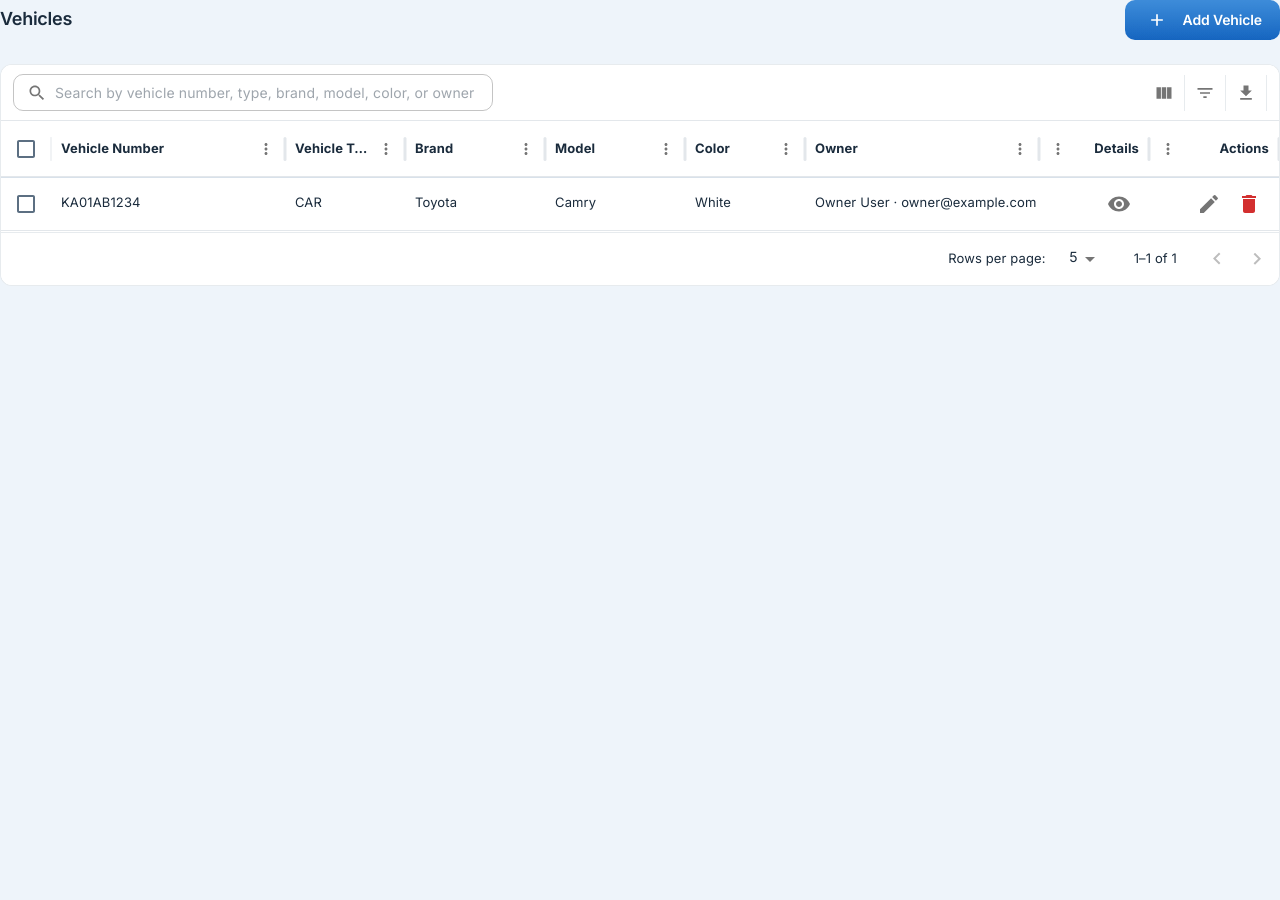
it: VehiclesPage › opens edit dialog and submits updated vehicle
Check: the text "KA01AB1234" is shown, box [61,195,141,211]
Click the button named "Edit" at (1209, 204), box [1189,184,1229,224]
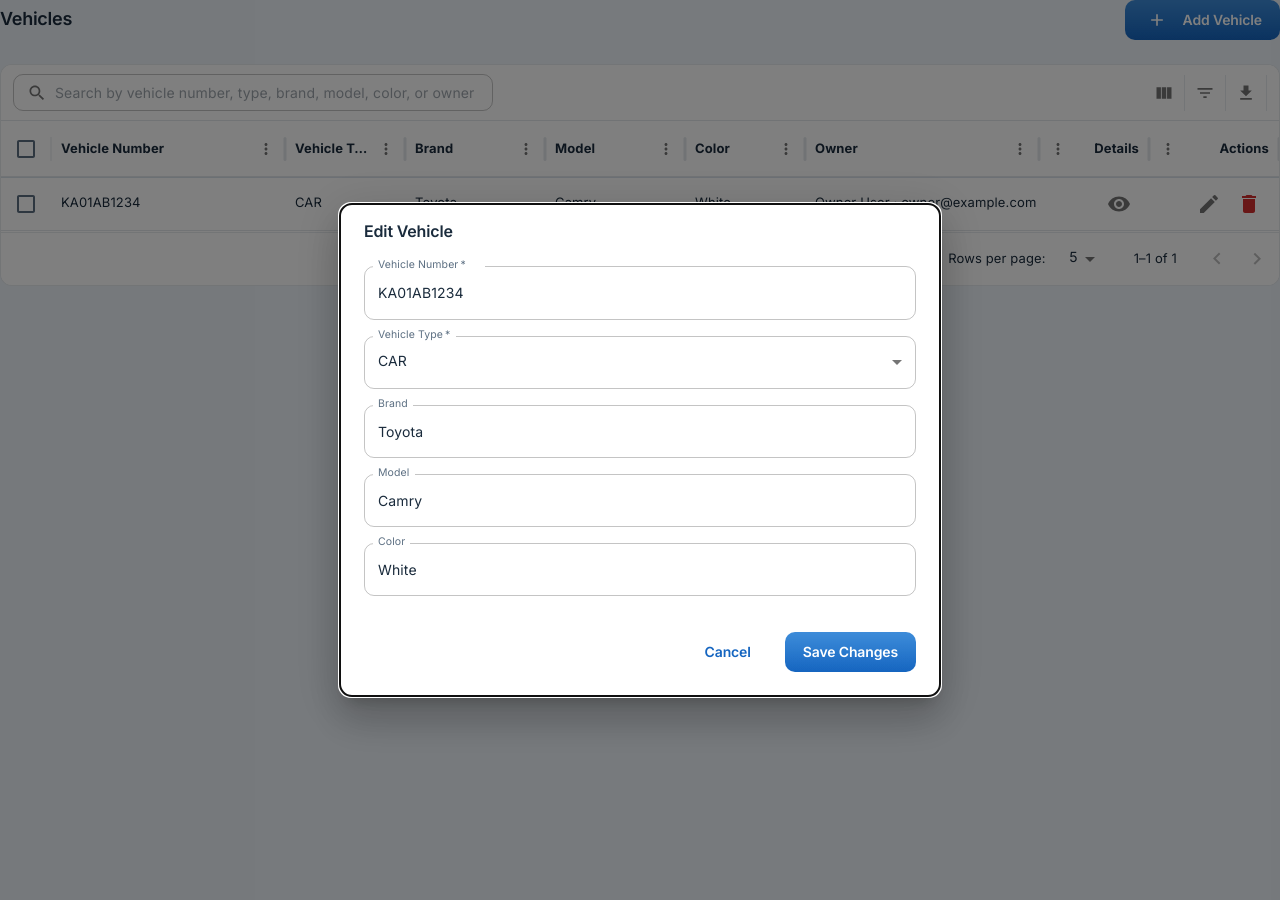
Check: the heading "Edit Vehicle" is shown, box [364,221,453,241]
Replace the text in the field labelled "Vehicle Number *" with "KA01AB5678" at (640, 293), box [364,266,916,320]
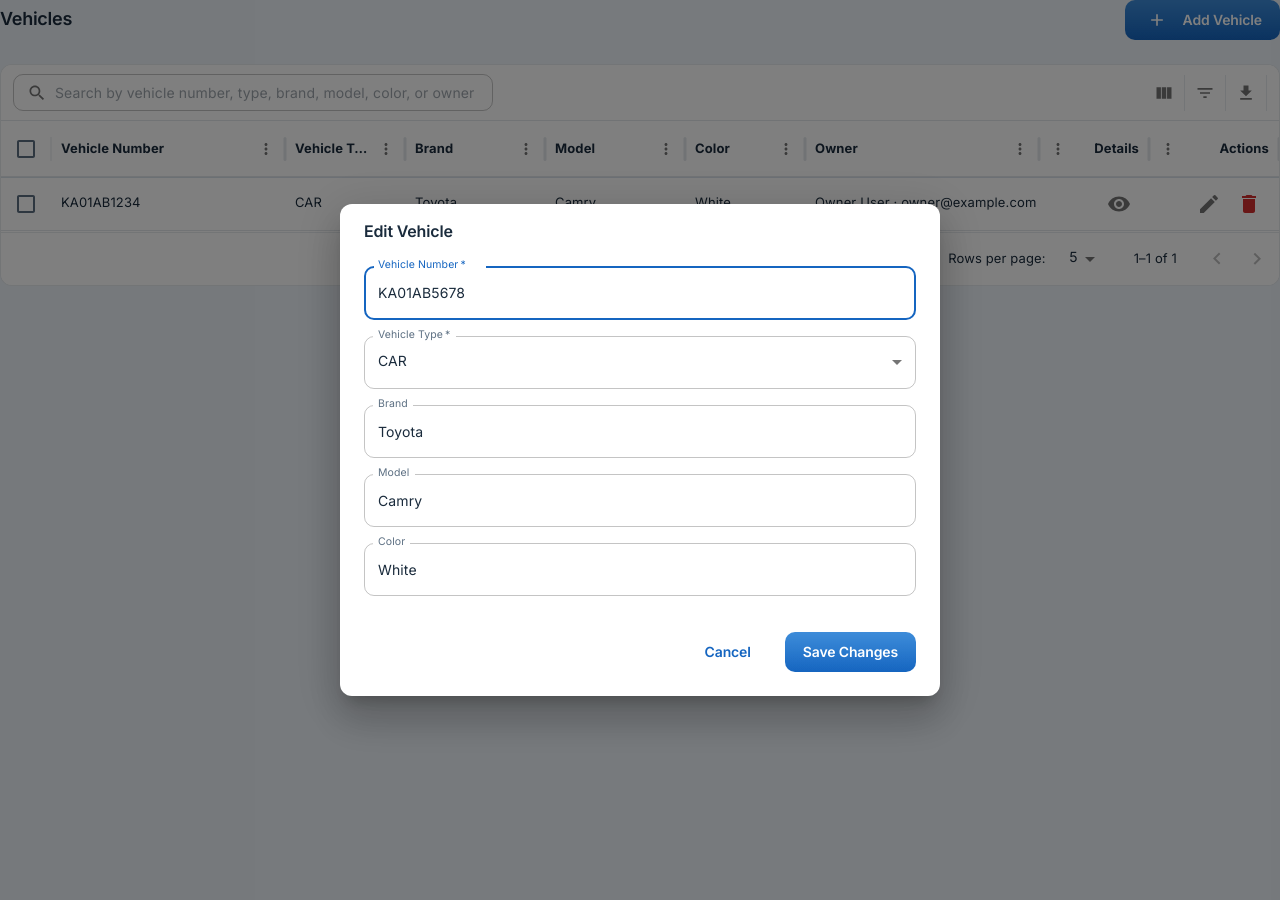
Click the button "Save Changes" at (850, 652), box [785,632,916,672]
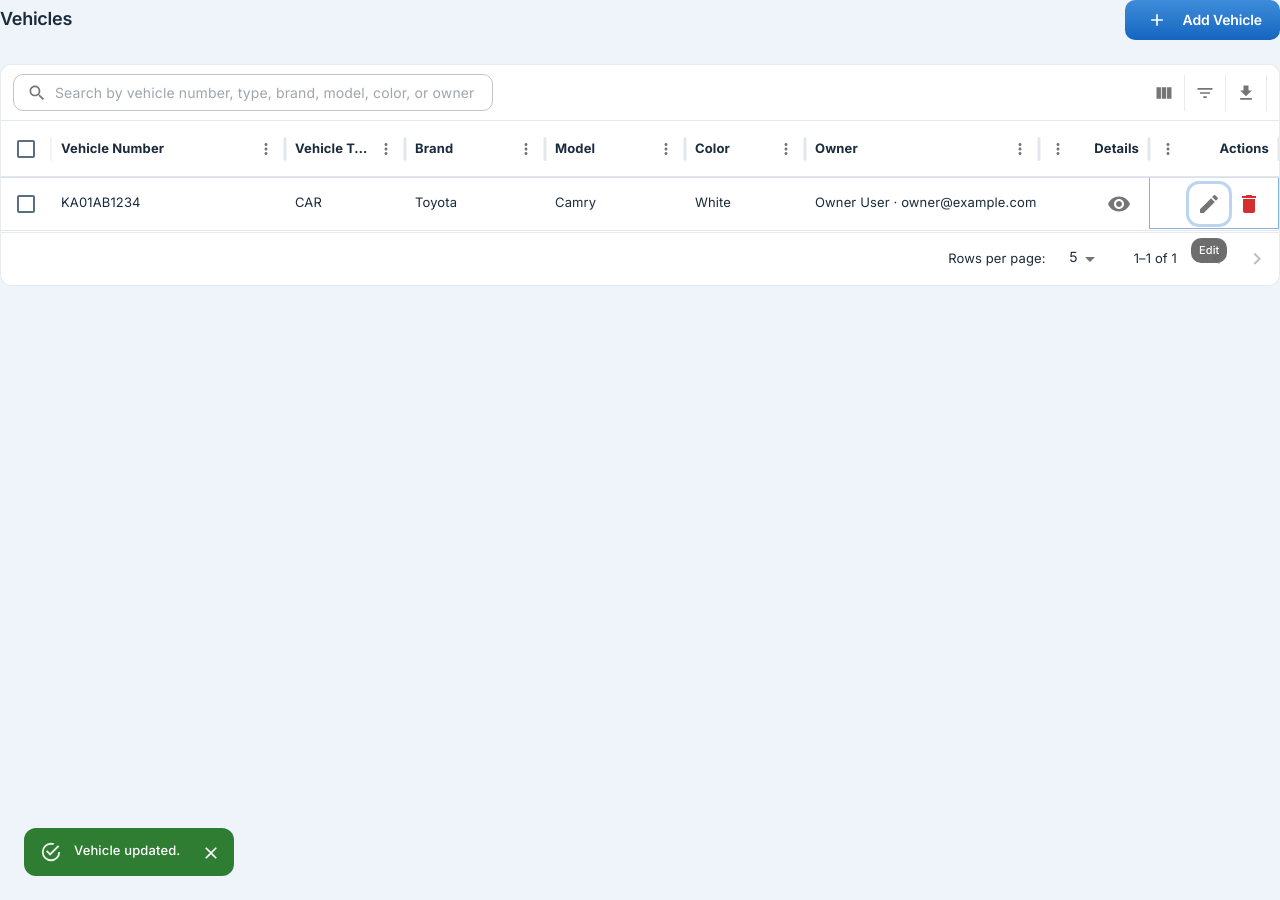
Check: the text "Vehicle updated." is shown, box [74,843,180,859]
